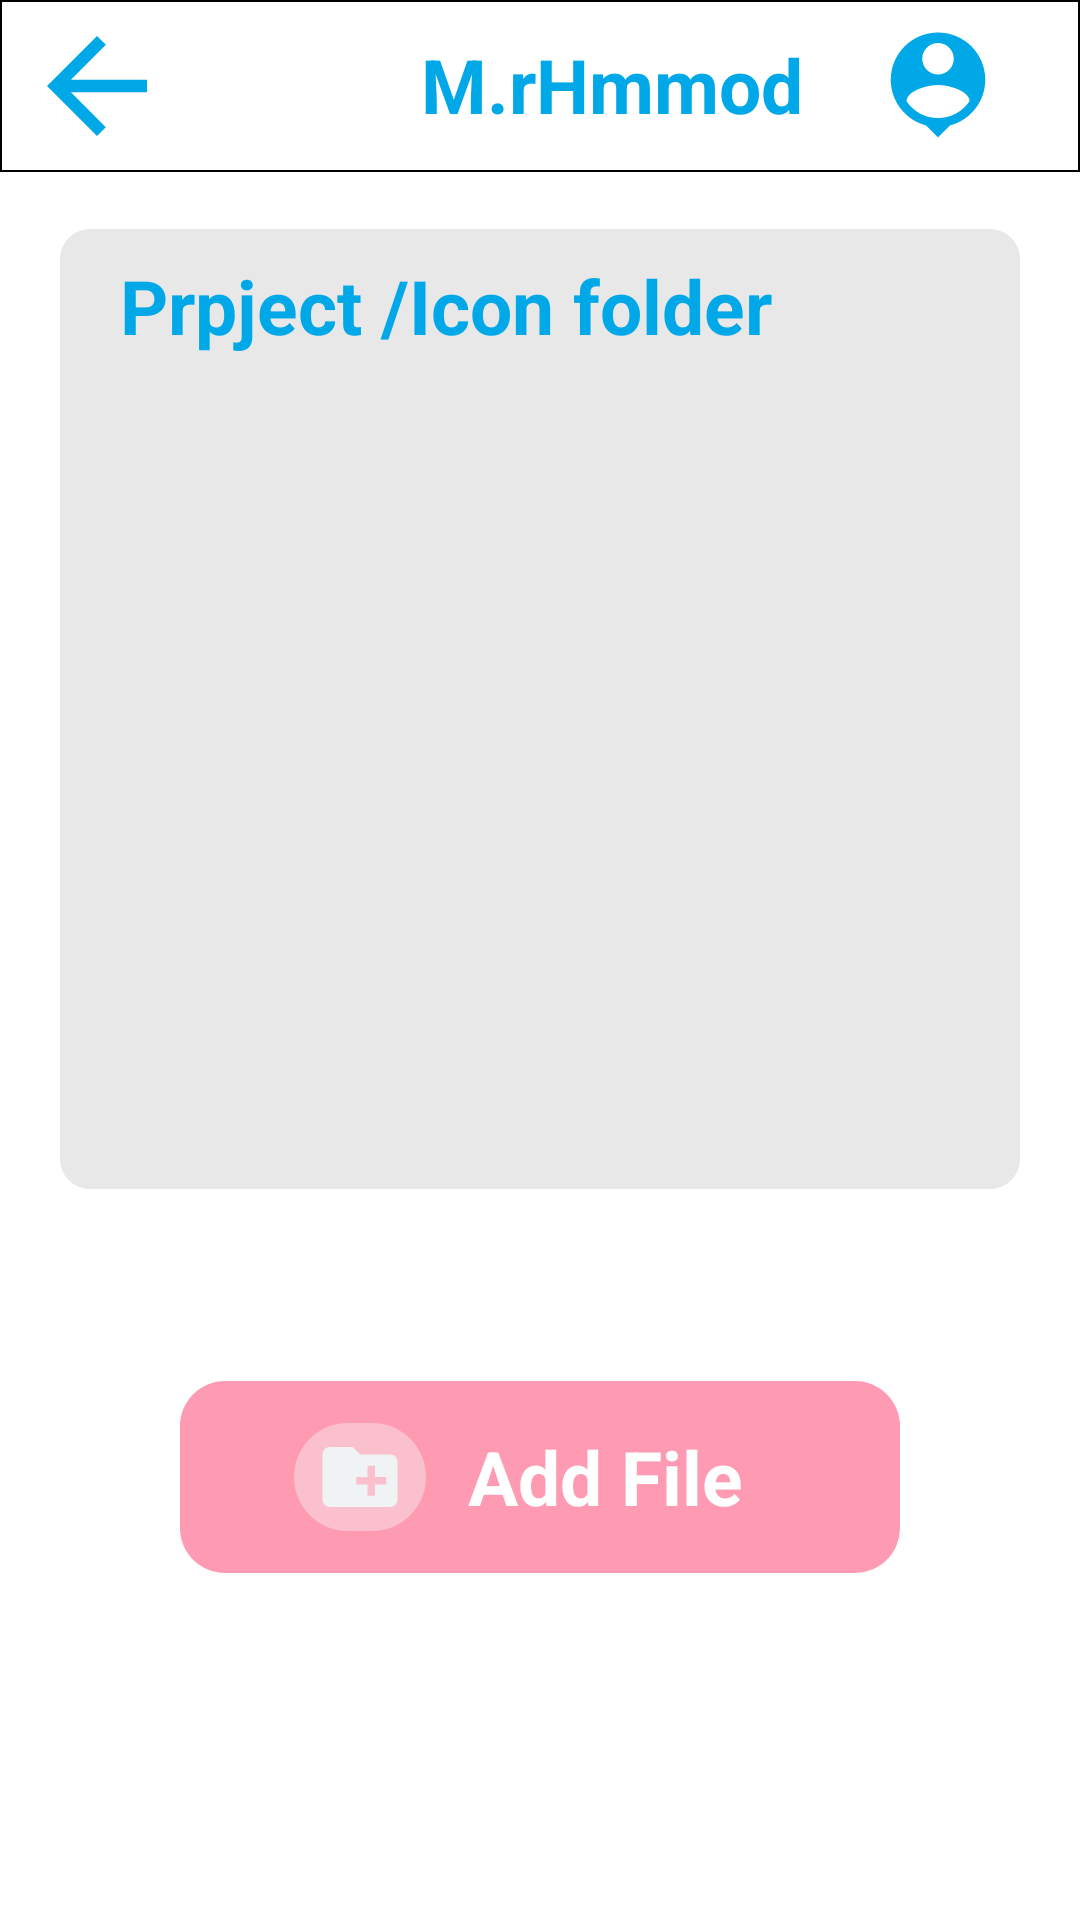

Icon click points for this 1080px x 1920px phone screenshot, format point (x, y):
arrow back: point (97, 86)
create folder: point (360, 1477)
